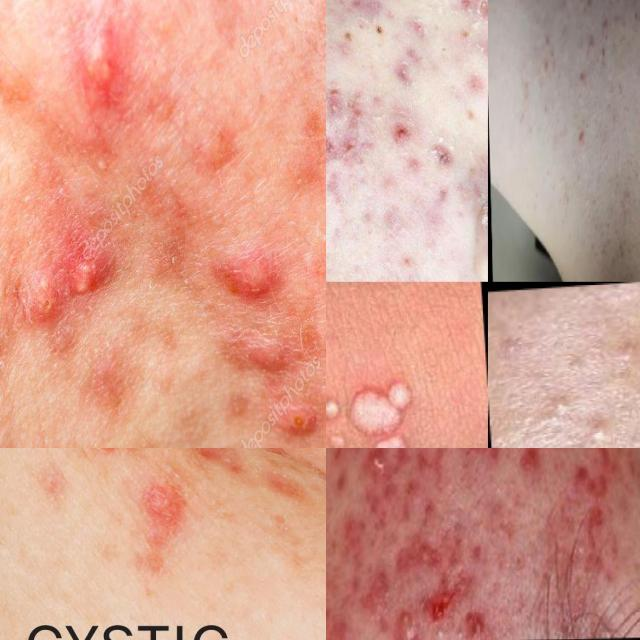acne_scars: (326, 63, 393, 157), (576, 498, 609, 550), (327, 0, 395, 23)
comedone: (572, 417, 624, 447), (612, 338, 640, 369), (560, 448, 583, 461), (588, 187, 598, 216), (573, 163, 586, 185), (630, 155, 640, 182)
crystanlline: (14, 230, 160, 338), (66, 0, 159, 118)
cystic: (240, 258, 286, 324)
flat_wart: (326, 371, 423, 448)
papule: (574, 52, 586, 92), (599, 12, 612, 37)
sebo-crystan-conglo: (426, 575, 456, 626), (390, 592, 419, 639), (462, 604, 492, 637), (366, 448, 390, 484)
